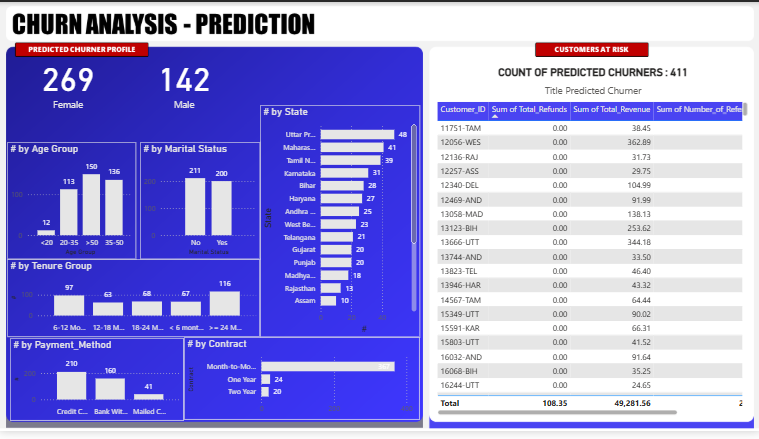

What the dashboard file says about the page in this screenshot:
{"tool":"powerbi","page":{"name":"Page 1","canvas":[1280,720],"ordinal":2},"visuals":[{"type":"tableEx","fields":{"Values":["vw_joindata.Customer_ID","Sum(vw_joindata.Total_Refunds)","Sum(vw_joindata.Total_Revenue)","Sum(vw_joindata.Number_of_Referrals)","vw_joindata.Monthly_Charge"]},"box":[730.7,162.9,532.5,535.9],"z":0},{"type":"card","fields":{"Values":["Tbl_measures.Title Predicted Churner"]},"box":[787.8,95.7,419.9,67.2],"z":1},{"type":"card","fields":{"Values":["Tbl_measures.Count Predicted Churner"]},"box":[18.5,80.6,194.9,107.5],"z":2},{"type":"card","fields":{"Values":["Tbl_measures.Count Predicted Churner"]},"box":[213.3,80.6,194.9,107.5],"z":3},{"type":"clusteredColumnChart","fields":{"Category":["mapping_AgeGrp.Age Group"],"Y":["CountNonNull(vw_joindata.Customer_ID)"]},"box":[13.4,235.2,216.7,196.5],"z":4},{"type":"clusteredColumnChart","fields":{"Category":["vw_joindata.Married"],"Y":["CountNonNull(vw_joindata.Customer_ID)"]},"box":[236.9,235.2,201.6,196.5],"z":5},{"type":"clusteredColumnChart","fields":{"Y":["CountNonNull(vw_joindata.Customer_ID)"],"Category":["mapping_TenurGrp.Tenure Group"]},"box":[13.4,431.7,425,131],"z":6},{"type":"clusteredColumnChart","fields":{"Y":["CountNonNull(vw_joindata.Customer_ID)"],"Category":["vw_joindata.Payment_Method"]},"box":[18.5,564.4,292.3,139.4],"z":7},{"type":"clusteredBarChart","fields":{"Category":["vw_joindata.Contract"],"Y":["CountNonNull(vw_joindata.Customer_ID)"]},"box":[310.8,562.7,396.4,139.4],"z":8},{"type":"clusteredBarChart","fields":{"Category":["vw_joindata.State"],"Y":["CountNonNull(vw_joindata.Customer_ID)"]},"box":[438.4,173,268.8,389.7],"z":9}]}

Visuals, with their boxes in screenshot pixels (x1, y1, x2, y2), scaled from the page's 1280x720 canvas onto the 759x439 screenshot:
tableEx - vw_joindata.Customer_ID x Sum(vw_joindata.Total_Refunds): {"x1": 433, "y1": 99, "x2": 749, "y2": 426}
card - Tbl_measures.Title Predicted Churner: {"x1": 467, "y1": 58, "x2": 716, "y2": 99}
card - Tbl_measures.Count Predicted Churner: {"x1": 11, "y1": 49, "x2": 127, "y2": 115}
card - Tbl_measures.Count Predicted Churner: {"x1": 126, "y1": 49, "x2": 242, "y2": 115}
clusteredColumnChart - mapping_AgeGrp.Age Group x CountNonNull(vw_joindata.Customer_ID): {"x1": 8, "y1": 143, "x2": 136, "y2": 263}
clusteredColumnChart - vw_joindata.Married x CountNonNull(vw_joindata.Customer_ID): {"x1": 140, "y1": 143, "x2": 260, "y2": 263}
clusteredColumnChart - CountNonNull(vw_joindata.Customer_ID) x mapping_TenurGrp.Tenure Group: {"x1": 8, "y1": 263, "x2": 260, "y2": 343}
clusteredColumnChart - CountNonNull(vw_joindata.Customer_ID) x vw_joindata.Payment_Method: {"x1": 11, "y1": 344, "x2": 184, "y2": 429}
clusteredBarChart - vw_joindata.Contract x CountNonNull(vw_joindata.Customer_ID): {"x1": 184, "y1": 343, "x2": 419, "y2": 428}
clusteredBarChart - vw_joindata.State x CountNonNull(vw_joindata.Customer_ID): {"x1": 260, "y1": 105, "x2": 419, "y2": 343}
